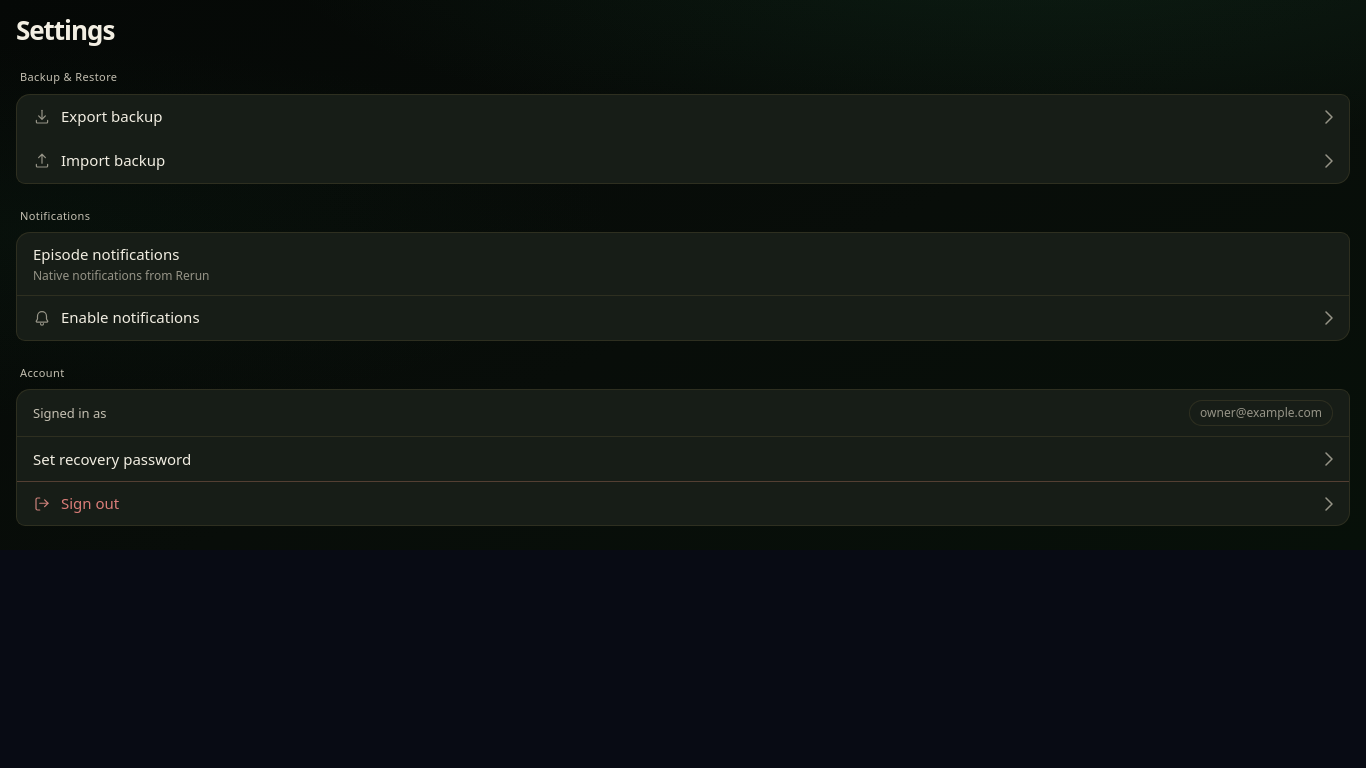
Settings: Backup & Restore section › shows calm error feedback when export fails
Click the button "Export backup" at [112, 116], box [17, 95, 1349, 139]
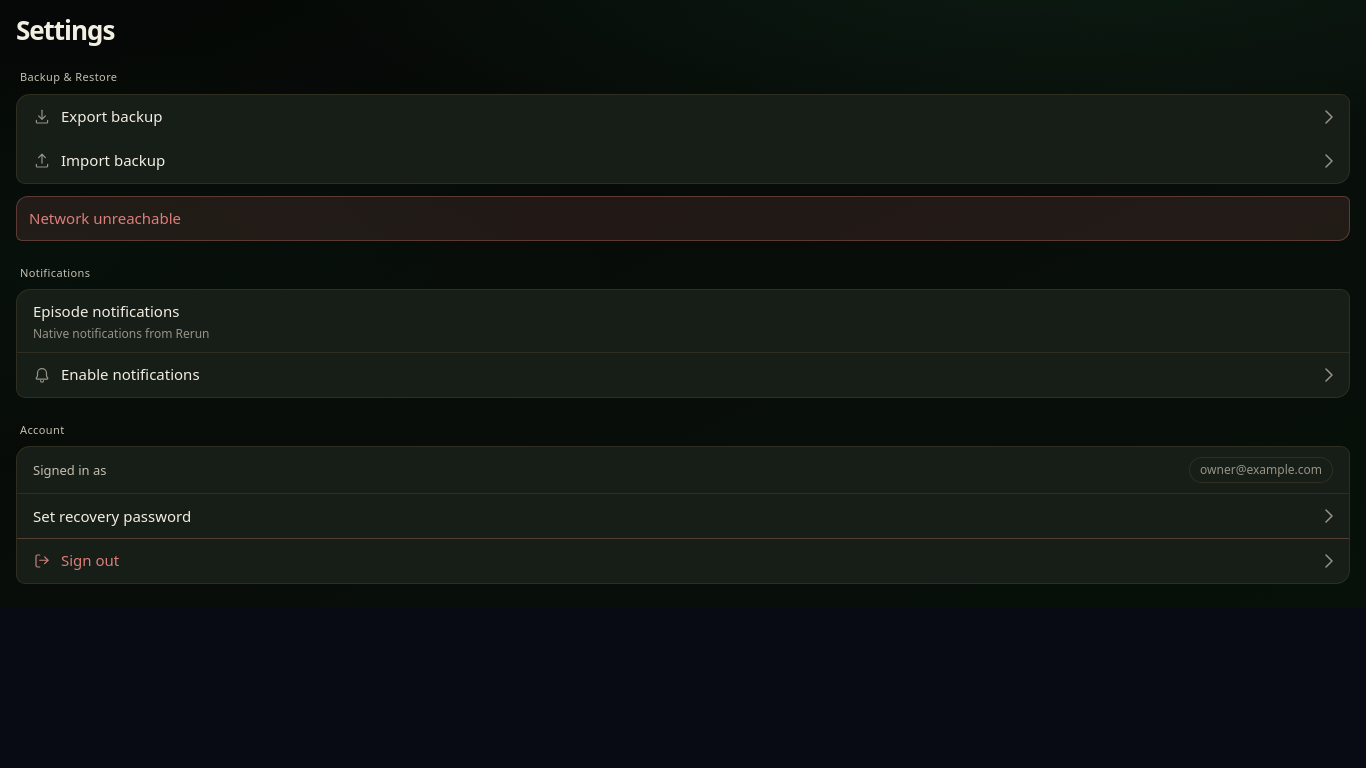
Expected: the text "Network unreachable" is shown, [16, 196, 1350, 241]
